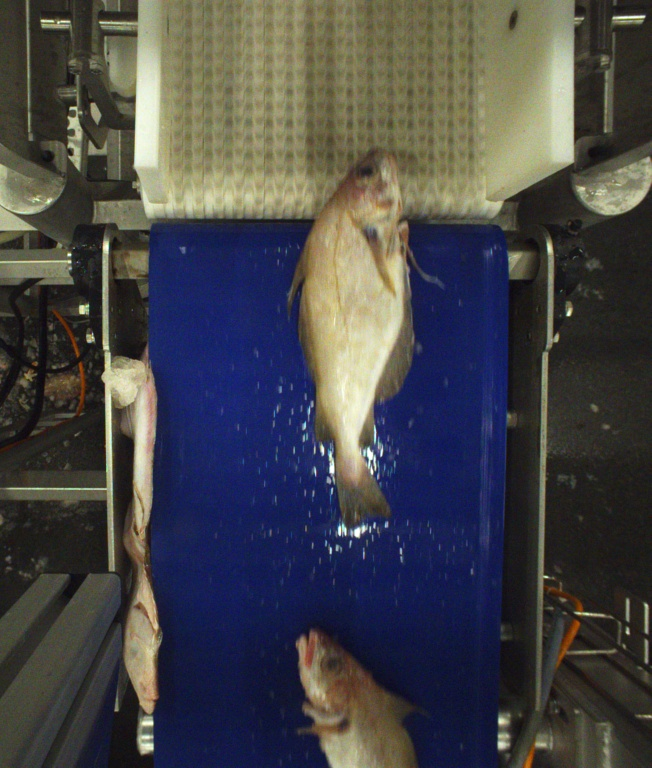BIB: (292, 146, 445, 524)
